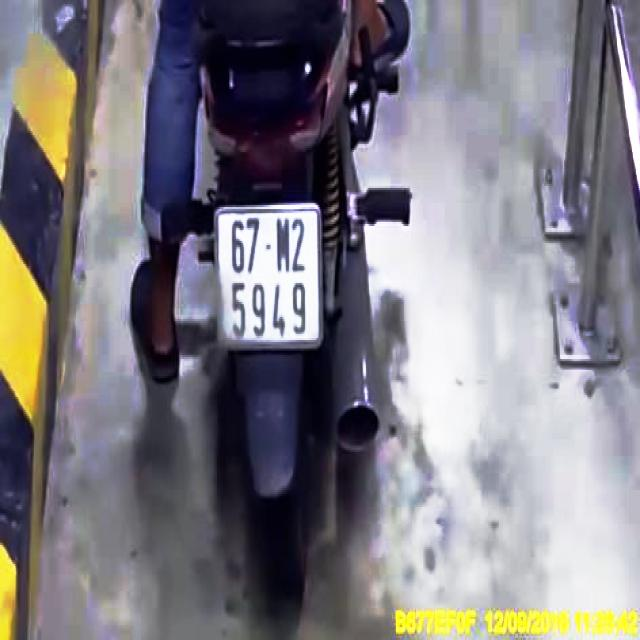license_plate: (219, 207, 323, 343)
